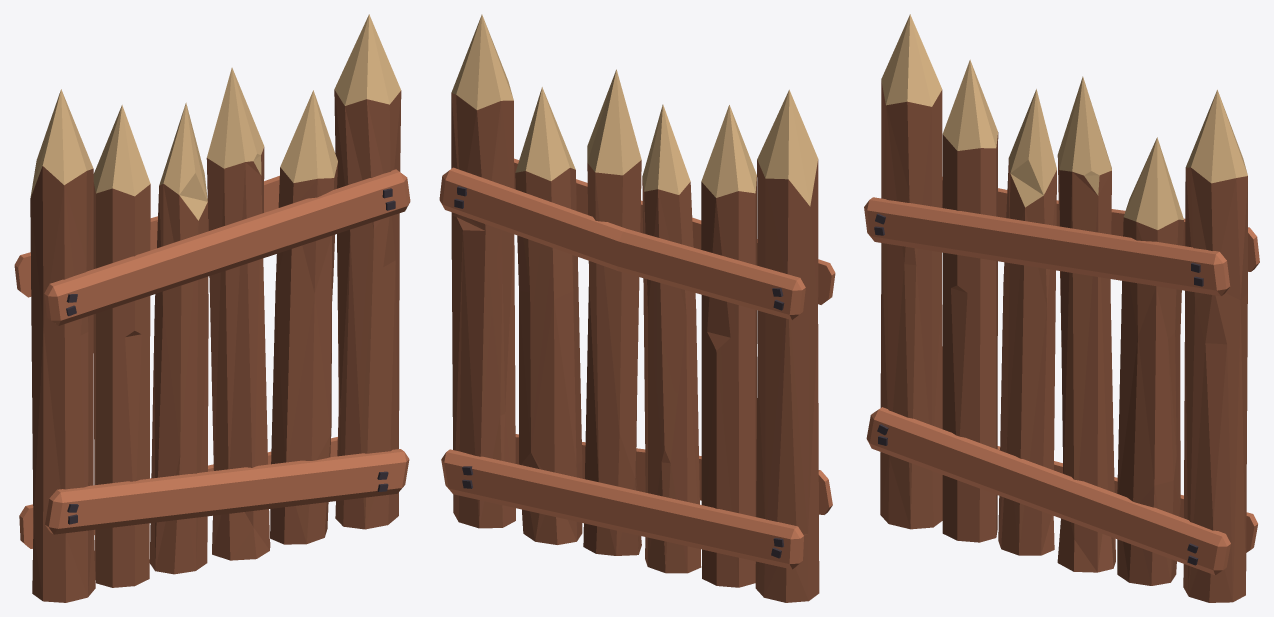
Rendered from Fence_1_1 1.fbx.
The picture shows the model from 3 angles, left to right: view 1: azimuth 30°, elevation 25°; view 2: azimuth 150°, elevation 25°; view 3: azimuth 330°, elevation 25°; orthographic projection.
Visible parts, largest first — view 1: Fence_1_1; view 2: Fence_1_1; view 3: Fence_1_1.
Boxes of the visible parts, x1,y1,x2,y2 form: Fence_1_1: (14, 14, 410, 602); Fence_1_1: (439, 14, 835, 602); Fence_1_1: (864, 14, 1259, 602).
Bounding box in the file's own units: 1.78 × 2.35 × 0.3682.
